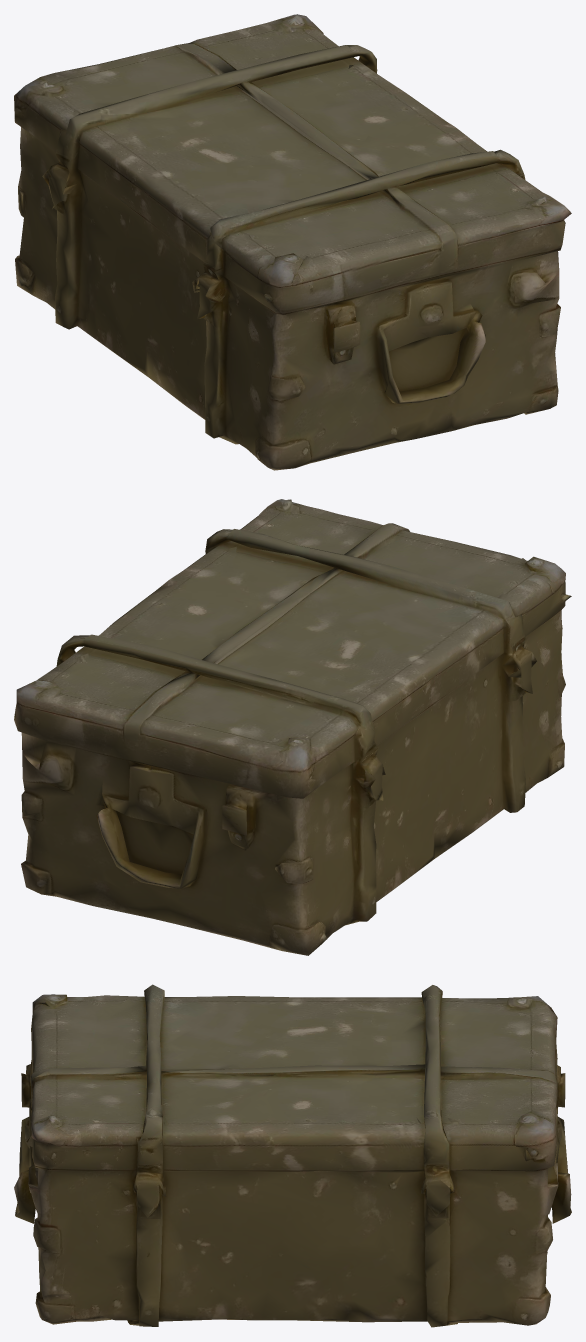
File: crate_military.raw.glb
3 renders of one model, top to bottom at view 1: azimuth 30°, elevation 25°; view 2: azimuth 150°, elevation 25°; view 3: azimuth 270°, elevation 25°, orthographic. The views are drawn at different scales.
Parts seen in each view (by area): view 1: tripo_node_ae05ee3c-9343-4113-bb8f-1823af353218; view 2: tripo_node_ae05ee3c-9343-4113-bb8f-1823af353218; view 3: tripo_node_ae05ee3c-9343-4113-bb8f-1823af353218.
Boxes of the visible parts, <box> form: tripo_node_ae05ee3c-9343-4113-bb8f-1823af353218: <box>14,14,571,470</box>; tripo_node_ae05ee3c-9343-4113-bb8f-1823af353218: <box>14,499,571,955</box>; tripo_node_ae05ee3c-9343-4113-bb8f-1823af353218: <box>14,984,571,1327</box>.
Bounding box in the file's own units: 0.6741 × 0.4348 × 1.
Materials: 1 (1 with a texture image).
